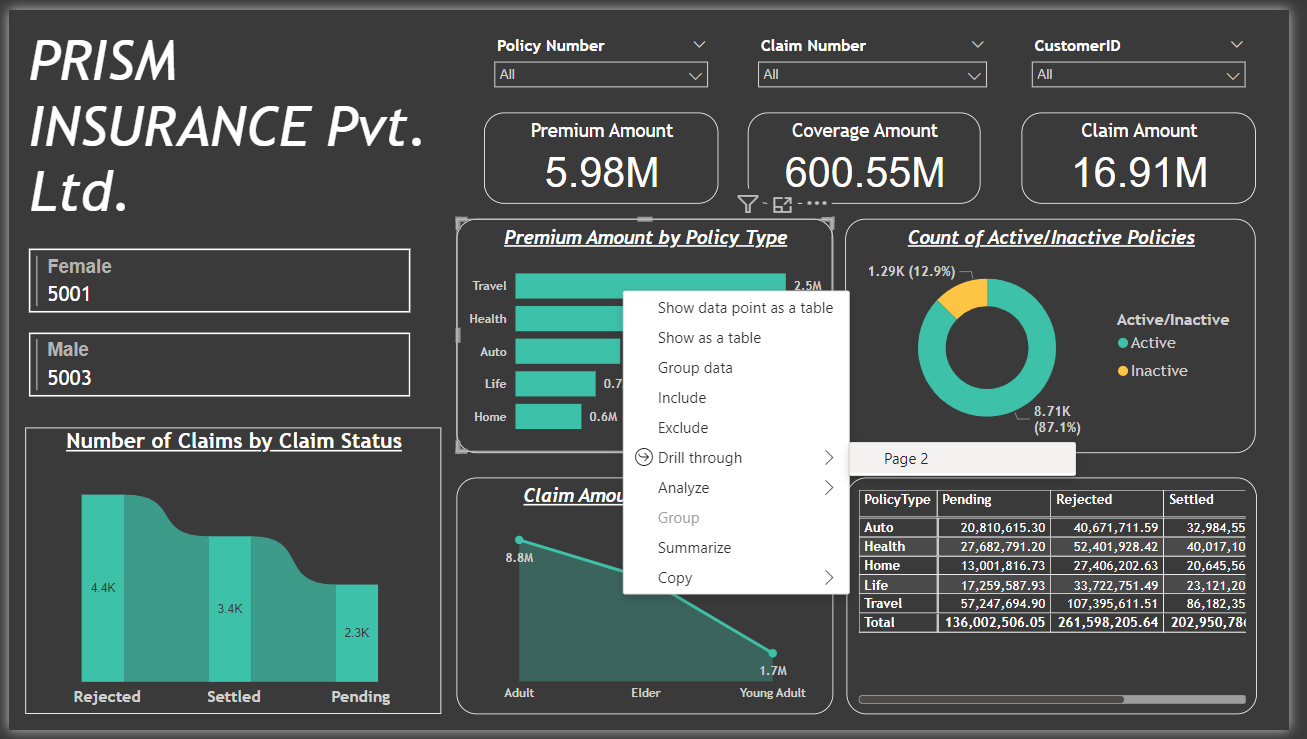

What the dashboard file says about the page in this screenshot:
{"tool":"powerbi","page":{"name":"Page 1","canvas":[1280,720],"ordinal":0},"visuals":[{"type":"slicer","fields":{"Values":["InsuranceData.PolicyNumber"]},"box":[475.2,21.5,234.2,67.3],"z":0},{"type":"slicer","fields":{"Values":["InsuranceData.ClaimNumber"]},"box":[739.1,21.5,249.1,67.3],"z":1000},{"type":"slicer","fields":{"Values":["InsuranceData.CustomerID"]},"box":[1012.4,21.5,234.2,67.3],"z":2000},{"type":"textbox","box":[14.8,12.1,420,211.4],"z":3000},{"type":"card","title":"Premium Amount","fields":{"Values":["Sum(InsuranceData.PremiumAmount)"]},"box":[475.2,102.3,234.2,91.5],"z":4000},{"type":"card","title":"Coverage Amount","fields":{"Values":["Sum(InsuranceData.CoverageAmount)"]},"box":[739.1,102.3,232.9,91.5],"z":5000},{"type":"card","title":"Claim Amount","fields":{"Values":["Sum(InsuranceData.ClaimAmount)"]},"box":[1012.4,102.3,234.2,91.5],"z":6000},{"type":"multiRowCard","fields":{"Values":["InsuranceData.Gender","CountNonNull(InsuranceData.Gender)"]},"box":[14.8,234.2,391.8,183.1],"z":7000},{"type":"ribbonChart","title":"Number of Claims by Claim Status","fields":{"Category":["InsuranceData.ClaimStatus"],"Y":["CountNonNull(InsuranceData.ClaimStatus)"]},"box":[16.2,417.3,416,286.7],"z":8000},{"type":"barChart","title":"Premium Amount by Policy Type","fields":{"Category":["InsuranceData.PolicyType"],"Y":["Sum(InsuranceData.PremiumAmount)"]},"box":[447,208.7,376.9,234.2],"z":9000},{"type":"lineChart","title":"Claim Amount by Age Group","fields":{"Category":["InsuranceData.Age_Group"],"Y":["Sum(InsuranceData.ClaimAmount)"]},"box":[447,467.1,376.9,236.9],"z":10000},{"type":"donutChart","title":"Count of Active/Inactive Policies","fields":{"Category":["InsuranceData.Active/Inactive"],"Y":["CountNonNull(InsuranceData.Active/Inactive)"]},"box":[836,208.7,410.6,234.2],"z":11000},{"type":"pivotTable","fields":{"Values":["Sum(InsuranceData.CoverageAmount)"],"Rows":["InsuranceData.PolicyType"],"Columns":["InsuranceData.ClaimStatus"]},"box":[837.4,467.1,410.6,236.9],"z":11001}]}

Visuals, with their boxes in screenshot pixels (x1, y1, x2, y2), scaled from the page's 1280x720 canvas onto the 1307x739 screenshot:
slicer - InsuranceData.PolicyNumber: {"left": 485, "top": 22, "right": 724, "bottom": 91}
slicer - InsuranceData.ClaimNumber: {"left": 755, "top": 22, "right": 1009, "bottom": 91}
slicer - InsuranceData.CustomerID: {"left": 1034, "top": 22, "right": 1273, "bottom": 91}
textbox: {"left": 15, "top": 12, "right": 444, "bottom": 229}
"Premium Amount" card: {"left": 485, "top": 105, "right": 724, "bottom": 199}
"Coverage Amount" card: {"left": 755, "top": 105, "right": 993, "bottom": 199}
"Claim Amount" card: {"left": 1034, "top": 105, "right": 1273, "bottom": 199}
multiRowCard - InsuranceData.Gender x CountNonNull(InsuranceData.Gender): {"left": 15, "top": 240, "right": 415, "bottom": 428}
"Number of Claims by Claim Status" ribbonChart: {"left": 17, "top": 428, "right": 441, "bottom": 723}
"Premium Amount by Policy Type" barChart: {"left": 456, "top": 214, "right": 841, "bottom": 455}
"Claim Amount by Age Group" lineChart: {"left": 456, "top": 479, "right": 841, "bottom": 723}
"Count of Active/Inactive Policies" donutChart: {"left": 854, "top": 214, "right": 1273, "bottom": 455}
pivotTable - Sum(InsuranceData.CoverageAmount) x InsuranceData.PolicyType: {"left": 855, "top": 479, "right": 1274, "bottom": 723}
